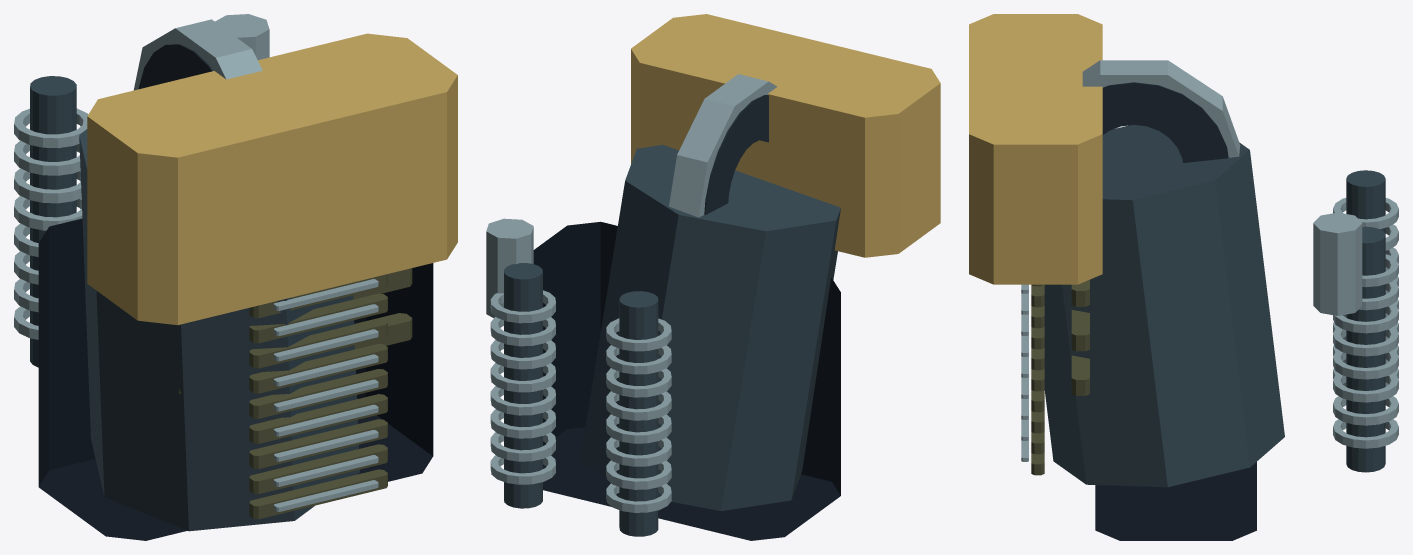
Rendered from enemy_gunner_4k_shin_l.obj.
3 renders of one model, left to right at view 1: azimuth 30°, elevation 25°; view 2: azimuth 150°, elevation 25°; view 3: azimuth 270°, elevation 25°, orthographic. The views are drawn at different scales.
Bounding box in the file's own units: 0.51 × 0.6084 × 0.612.
